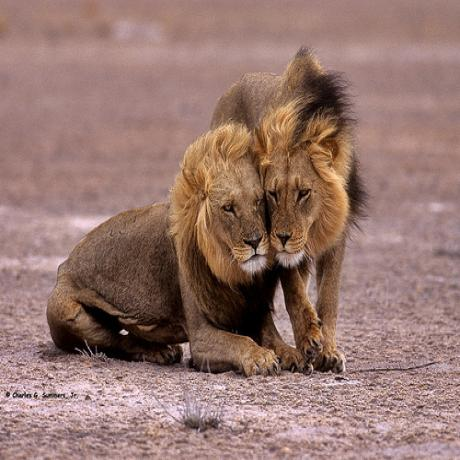Lion: (37, 125, 276, 385), (260, 81, 370, 364)
